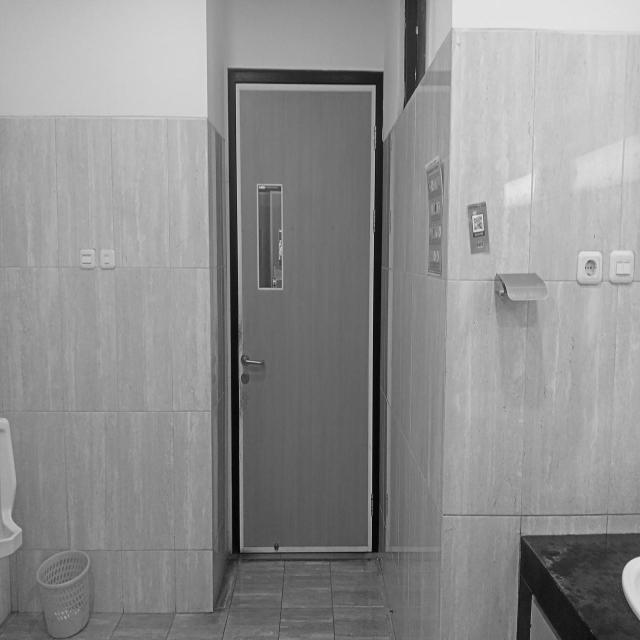door: (228, 69, 384, 556)
